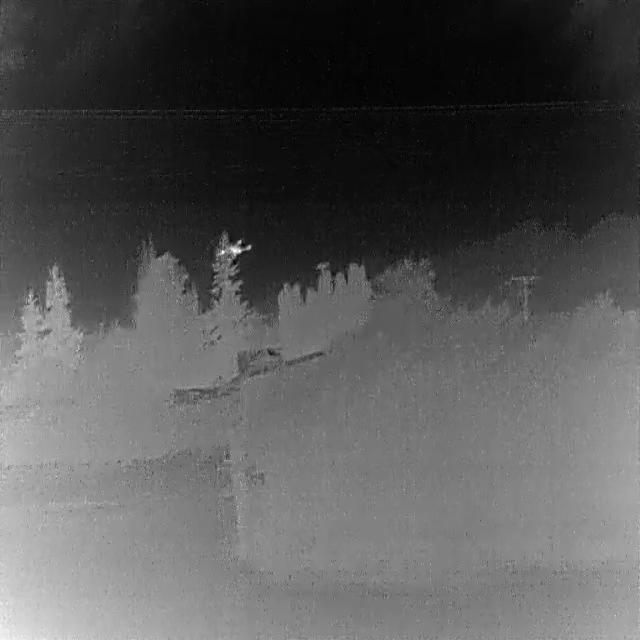drone: (218, 239, 254, 260)
